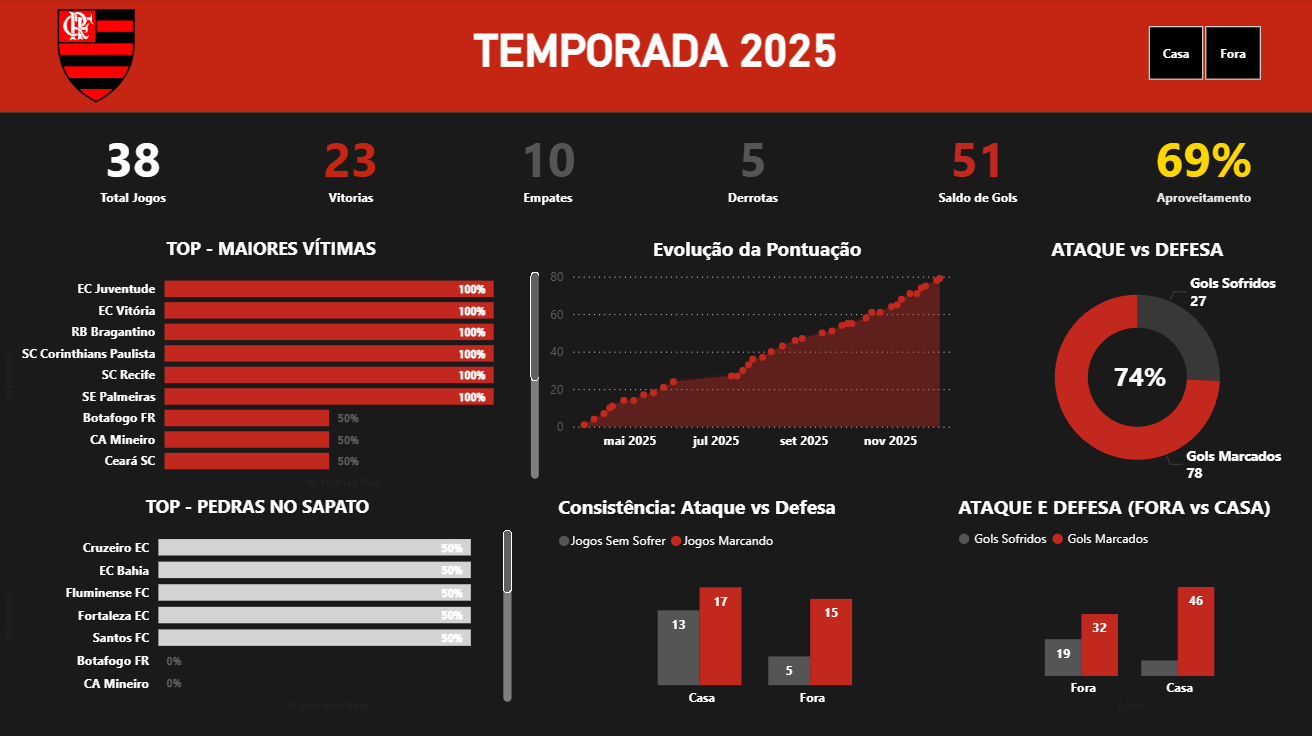

What the dashboard file says about the page in this screenshot:
{"tool":"powerbi","page":{"name":"Página 1","canvas":[1280,720],"ordinal":0},"visuals":[{"type":"shape","box":[0,0,1280,111.4],"z":0},{"type":"textbox","box":[363,21.1,553.9,80.8],"z":1000},{"type":"image","box":[0,10.5,190.9,91.3],"z":2000},{"type":"card","fields":{"Values":["flamengo_jogos_2025.Aproveitamento"]},"box":[1066.8,112.5,212,100.7],"z":3000},{"type":"card","fields":{"Values":["flamengo_jogos_2025.Derrotas"]},"box":[628.8,112.5,212,100.7],"z":4000},{"type":"card","fields":{"Values":["flamengo_jogos_2025.Saldo de Gols"]},"box":[847.3,112.5,212,100.7],"z":5000},{"type":"card","fields":{"Values":["flamengo_jogos_2025.Vitorias"]},"box":[237.8,112.5,212,100.7],"z":6000},{"type":"barChart","title":"TOP - MAIORES VÍTIMAS","fields":{"Category":["flamengo_jogos_2025.adversario"],"Y":["flamengo_jogos_2025.% Vitorias Real"]},"box":[0,230.1,531.3,251],"z":7000},{"type":"barChart","title":"TOP - PEDRAS NO SAPATO","fields":{"Category":["flamengo_jogos_2025.adversario"],"Y":["flamengo_jogos_2025.% Derrotas Real"]},"box":[0,481.8,504.5,217],"z":8000},{"type":"card","fields":{"Values":["flamengo_jogos_2025.Total Jogos"]},"box":[25.7,112.5,212.1,100.7],"z":9000},{"type":"donutChart","title":"ATAQUE vs DEFESA","fields":{"Y":["Sum(flamengo_casa_fora_2025.Gols Sofridos)","Sum(flamengo_casa_fora_2025.Gols Marcados)"]},"box":[940.7,230.1,335.3,251.7],"z":9000,"group":"g1"},{"type":"card","fields":{"Values":["flamengo_jogos_2025.Empates"]},"box":[428.5,112.5,212,100.7],"z":10000},{"type":"card","fields":{"Values":["flamengo_jogos_2025.Dominância de Gols %"]},"box":[1031.5,284.7,159.6,167.1],"z":10000,"group":"g1"},{"type":"lineClusteredColumnComboChart","title":"ATAQUE E DEFESA (FORA vs CASA)","fields":{"Category":["flamengo_casa_fora_2025.Local"],"Y":["Sum(flamengo_casa_fora_2025.Gols Sofridos)","Sum(flamengo_casa_fora_2025.Gols Marcados)"]},"box":[928.5,481.8,347.5,216.9],"z":11000},{"type":"group","id":"g1","title":"Grupo 1","box":[940.7,230.1,335.3,251.7],"z":12000},{"type":"slicer","fields":{"Values":["flamengo_casa_fora_2025.Local"]},"box":[1093.1,20.7,158.7,65.7],"z":13000},{"type":"areaChart","title":"Evolução da Pontuação","fields":{"Category":["flamengo_jogos_2025.data_jogo"],"Y":["flamengo_jogos_2025.Pontos Acumulados"]},"box":[529,230.1,418.8,217.9],"z":14000},{"type":"lineClusteredColumnComboChart","title":"Consistência: Ataque vs Defesa","fields":{"Category":["flamengo_jogos_2025.local"],"Y":["flamengo_jogos_2025.Jogos Sem Sofrer Gols","flamengo_jogos_2025.Jogos Marcando Gols"]},"box":[539.8,481.8,397.2,216.9],"z":15000}]}

Visuals, with their boxes in screenshot pixels (x1, y1, x2, y2), scaled from the page's 1280x720 canvas onto the 1312x736 screenshot:
shape: 0,0,1311,114
textbox: 372,22,940,104
image: 0,11,196,104
card - flamengo_jogos_2025.Aproveitamento: 1093,115,1311,218
card - flamengo_jogos_2025.Derrotas: 645,115,862,218
card - flamengo_jogos_2025.Saldo de Gols: 868,115,1086,218
card - flamengo_jogos_2025.Vitorias: 244,115,461,218
"TOP - MAIORES VÍTIMAS" barChart: 0,235,545,492
"TOP - PEDRAS NO SAPATO" barChart: 0,493,517,714
card - flamengo_jogos_2025.Total Jogos: 26,115,244,218
"ATAQUE vs DEFESA" donutChart: 964,235,1308,493
card - flamengo_jogos_2025.Empates: 439,115,657,218
card - flamengo_jogos_2025.Dominância de Gols %: 1057,291,1221,462
"ATAQUE E DEFESA (FORA vs CASA)" lineClusteredColumnComboChart: 952,493,1308,714
"Grupo 1" group: 964,235,1308,493
slicer - flamengo_casa_fora_2025.Local: 1120,21,1283,88
"Evolução da Pontuação" areaChart: 542,235,971,458
"Consistência: Ataque vs Defesa" lineClusteredColumnComboChart: 553,493,960,714
